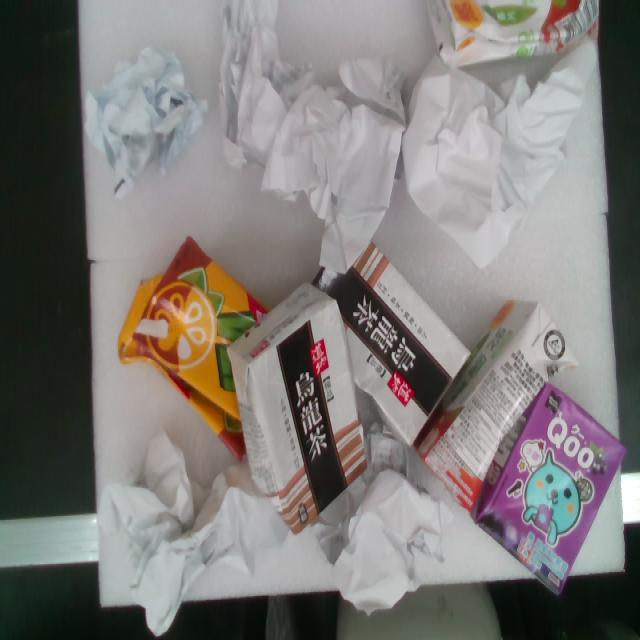juicebox: (84, 216, 349, 469), (196, 253, 403, 575), (381, 278, 612, 541), (261, 227, 506, 468), (409, 2, 615, 84)
paper: (312, 0, 620, 291), (206, 19, 485, 318), (39, 366, 322, 640), (47, 34, 237, 220)
